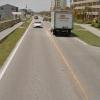Car: (30, 17, 44, 31)
